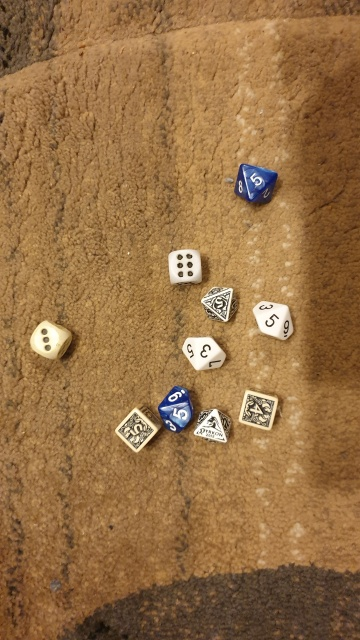d10-3: (180, 332, 231, 376)
d10-5: (225, 159, 284, 208), (155, 385, 197, 439), (250, 296, 298, 342)
d6-3: (24, 316, 78, 364)
d6-6: (162, 246, 204, 288)
d6p-4: (235, 387, 281, 434)
d6p-5: (111, 404, 161, 452)
d8p-1: (192, 407, 232, 445)
d8p-5: (198, 284, 242, 324)
